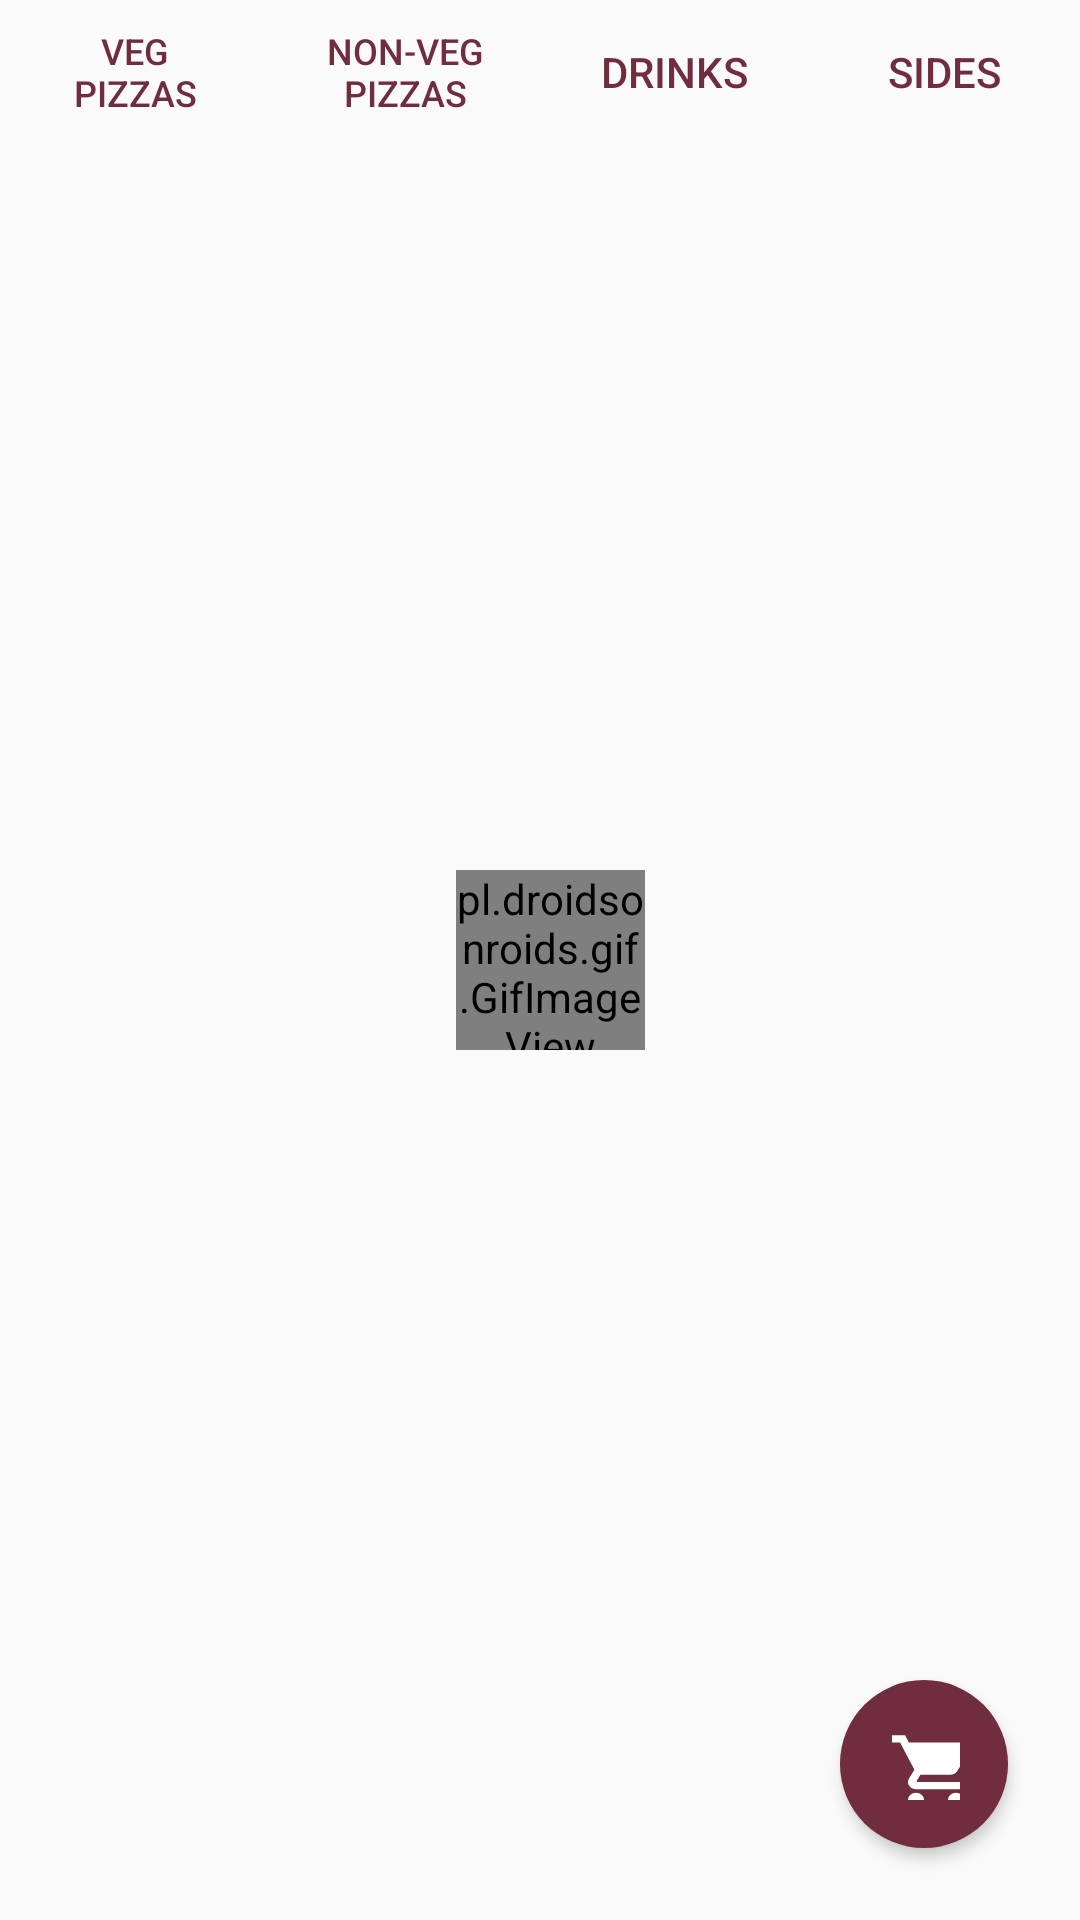

Icons on this 1080 x 1920 Android screen, each with its box as [left=x1, top=y1, right=x2, bottom=y2]:
Cart: [left=840, top=1680, right=1008, bottom=1848]
